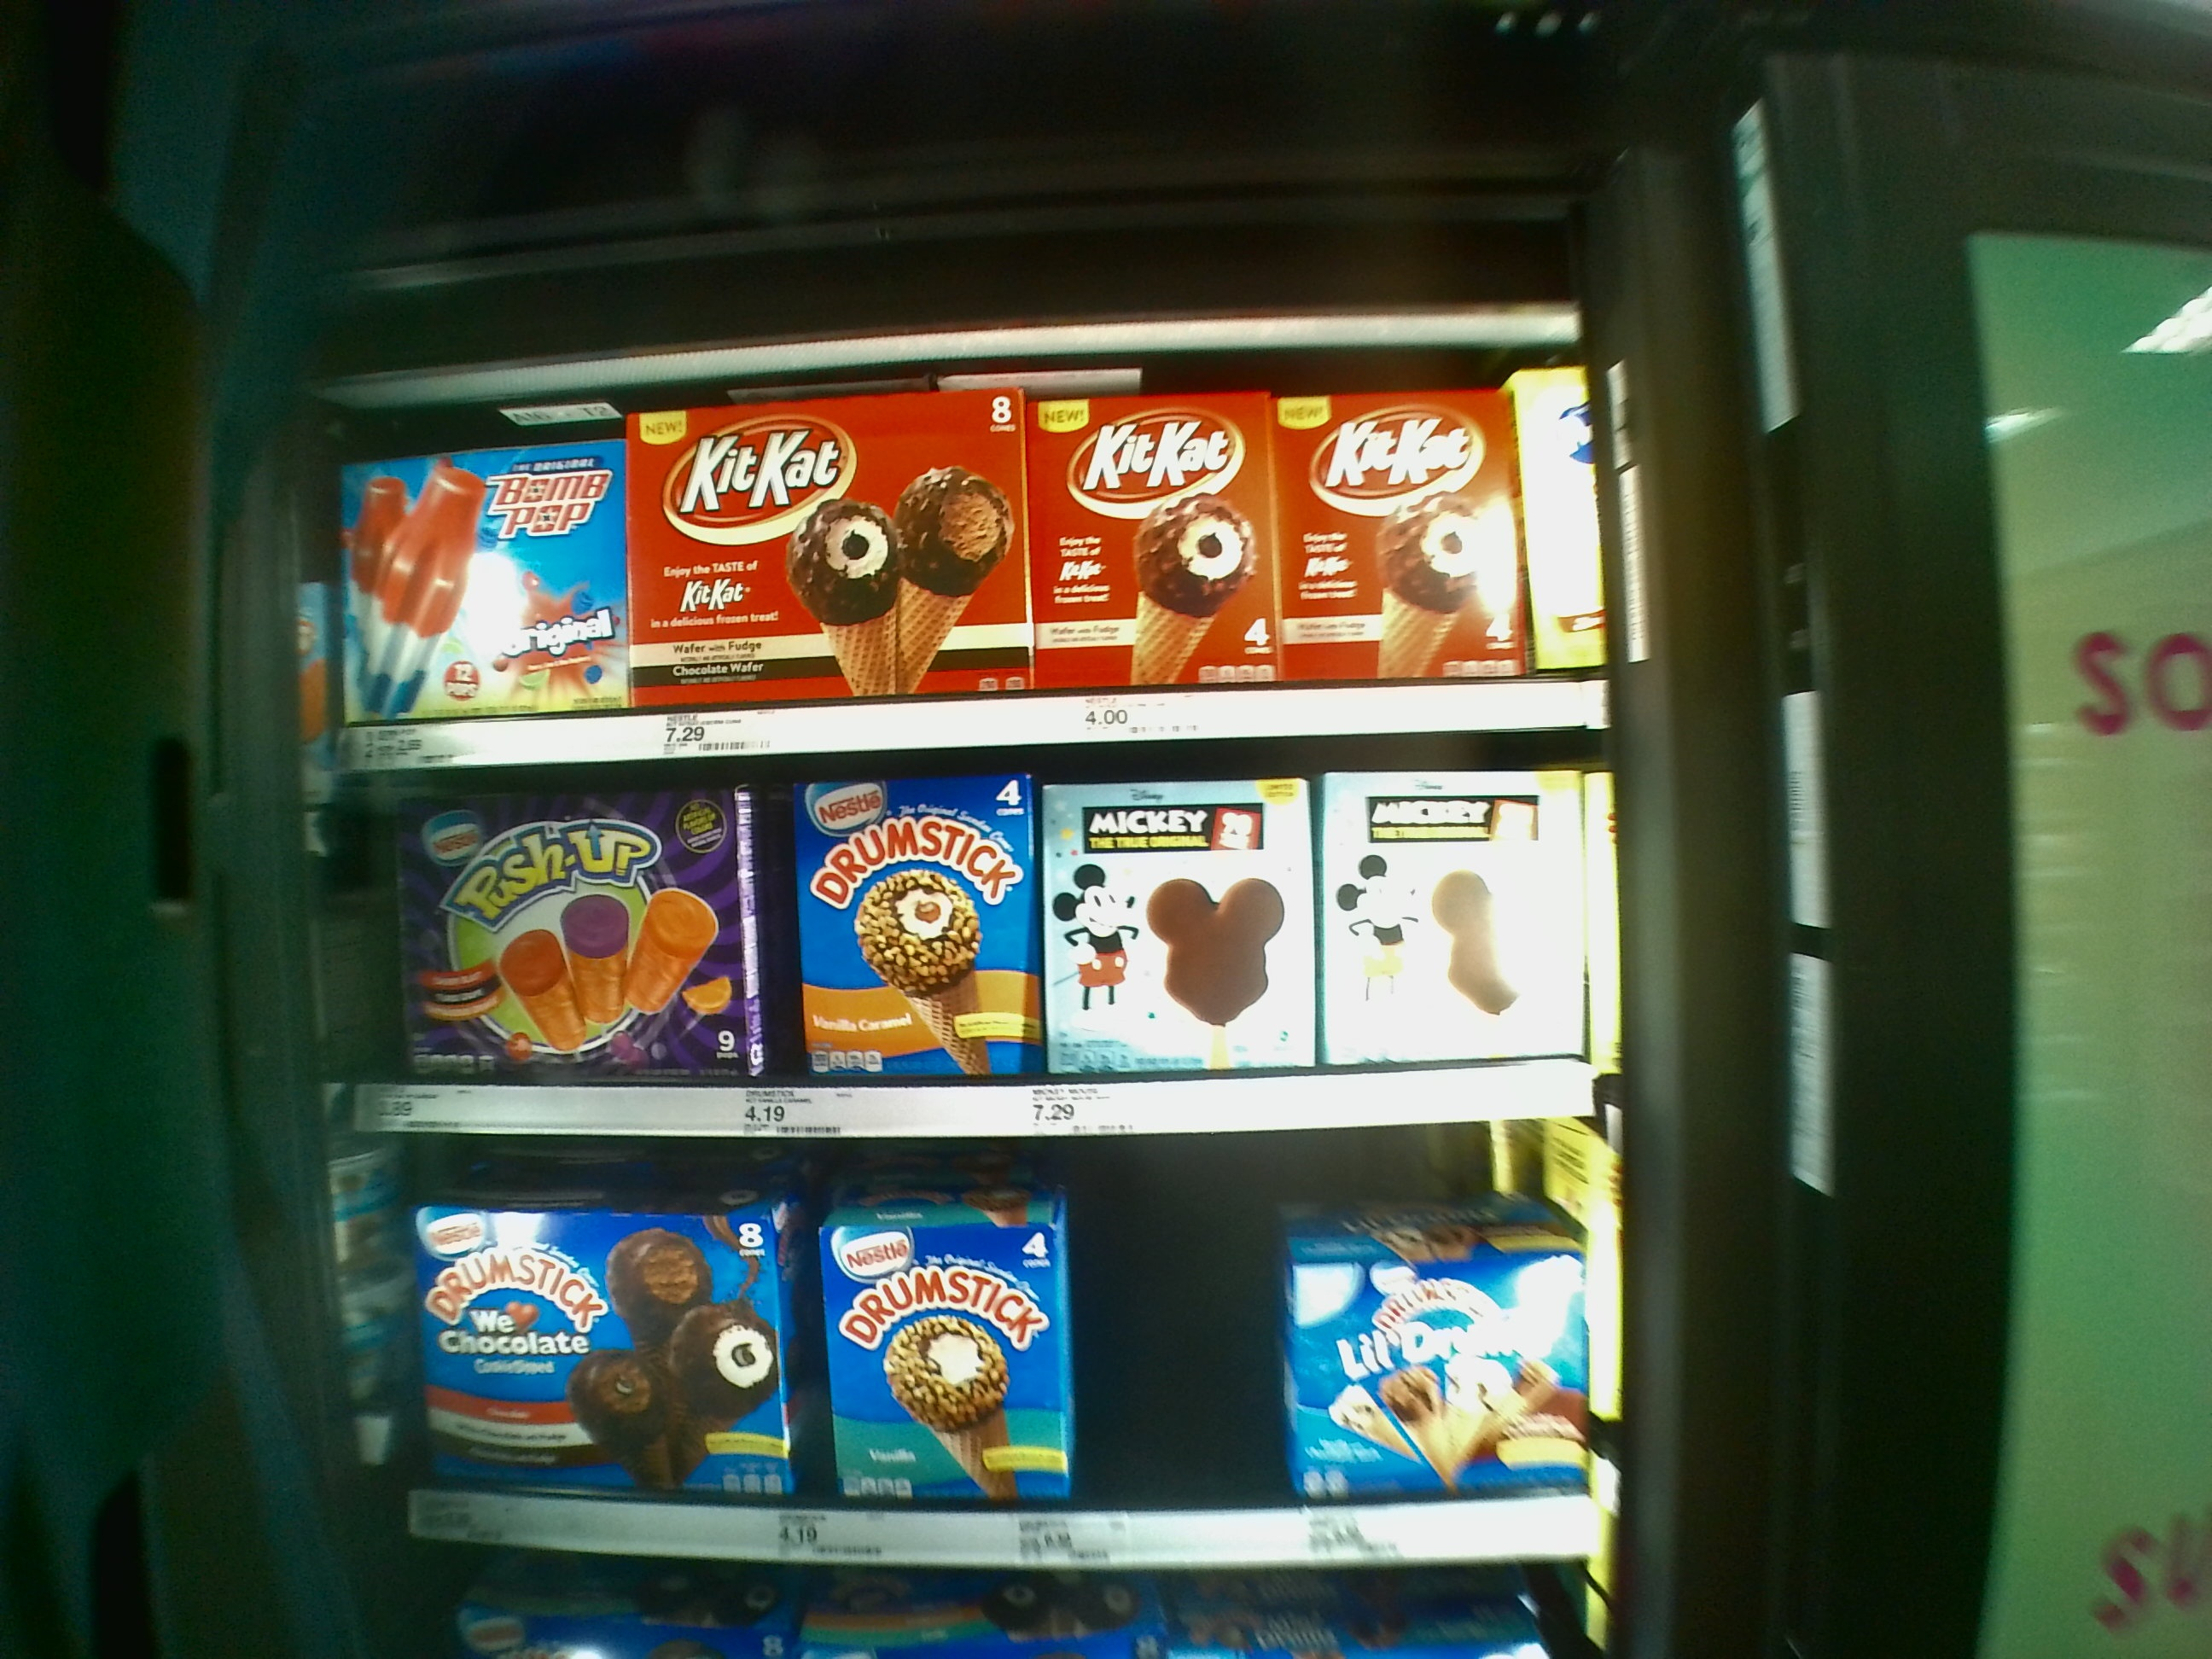shelf: (374, 1126, 1609, 1570), (329, 758, 1627, 1126), (329, 380, 1595, 756)
